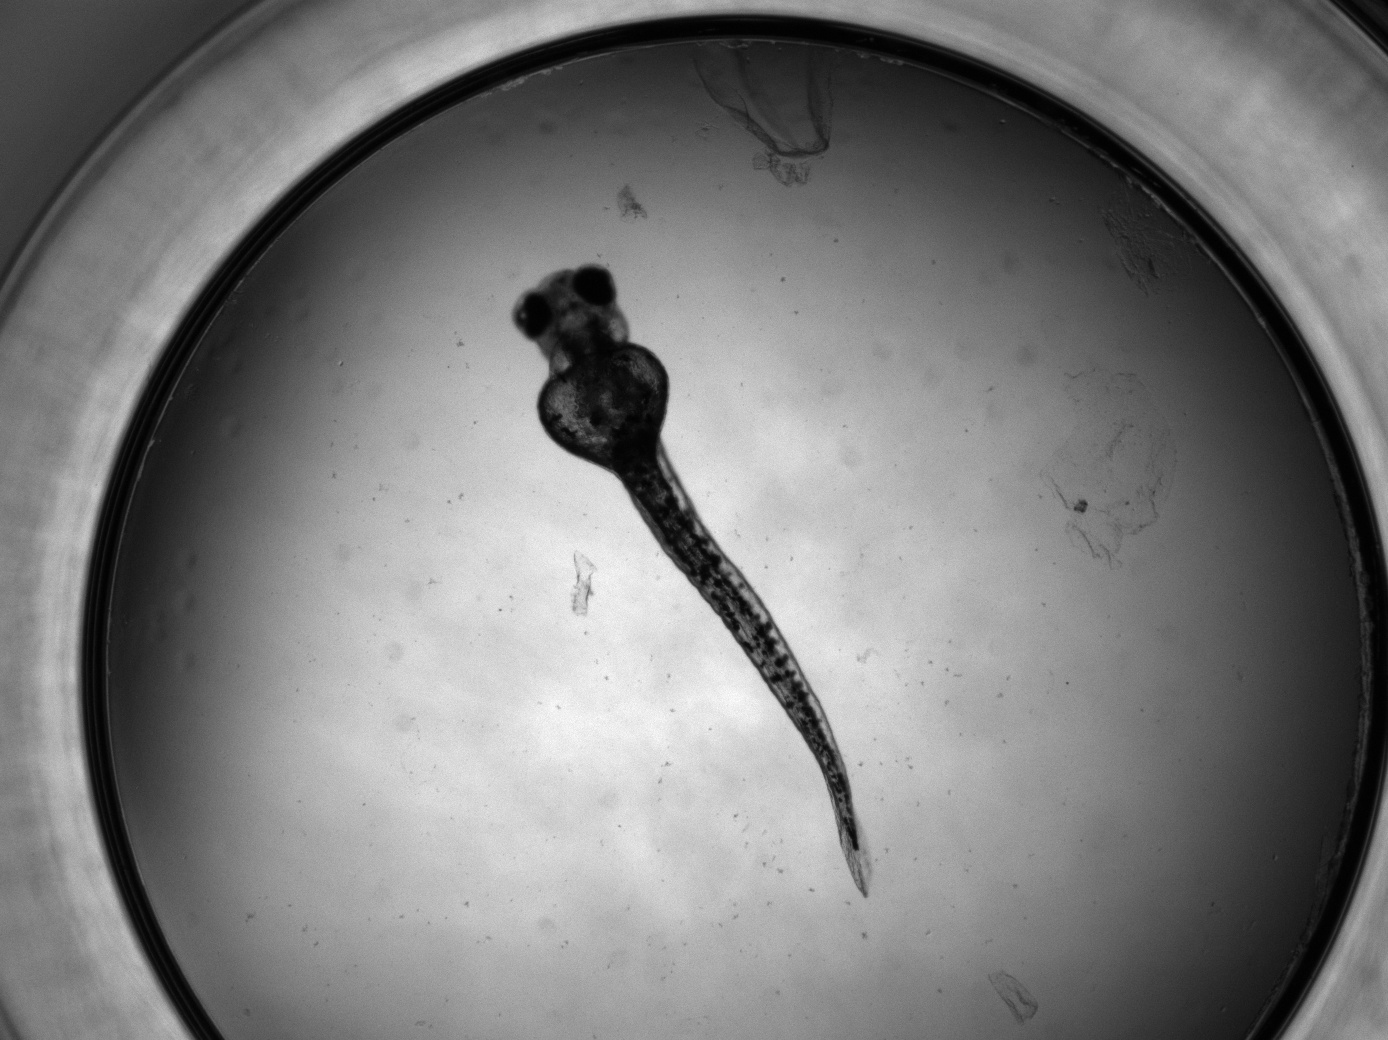debris: (689, 40, 834, 181), (989, 969, 1044, 1023), (572, 549, 595, 616)
embryo: (511, 263, 874, 898)
eye: (573, 264, 616, 309), (512, 291, 551, 338)
yolksac: (537, 344, 671, 468)
